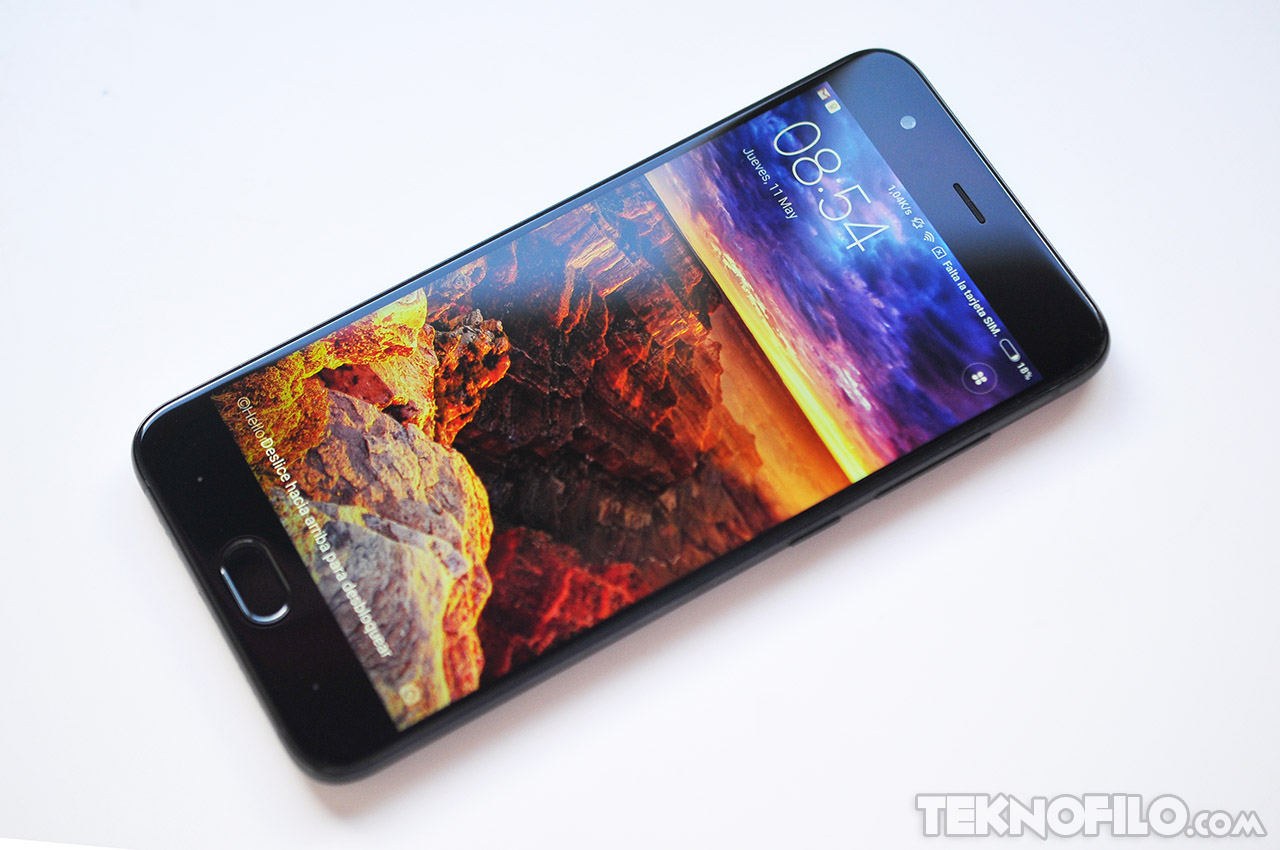smartphone: (131, 47, 1111, 785)
